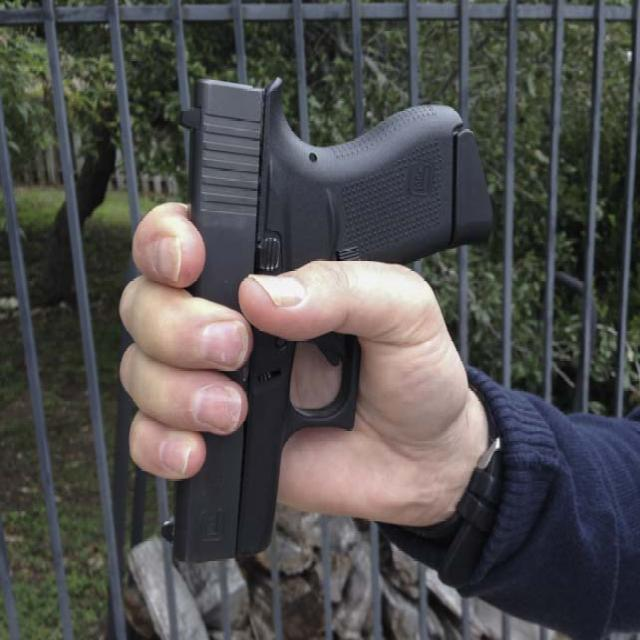HandGun: (172, 79, 493, 566)
